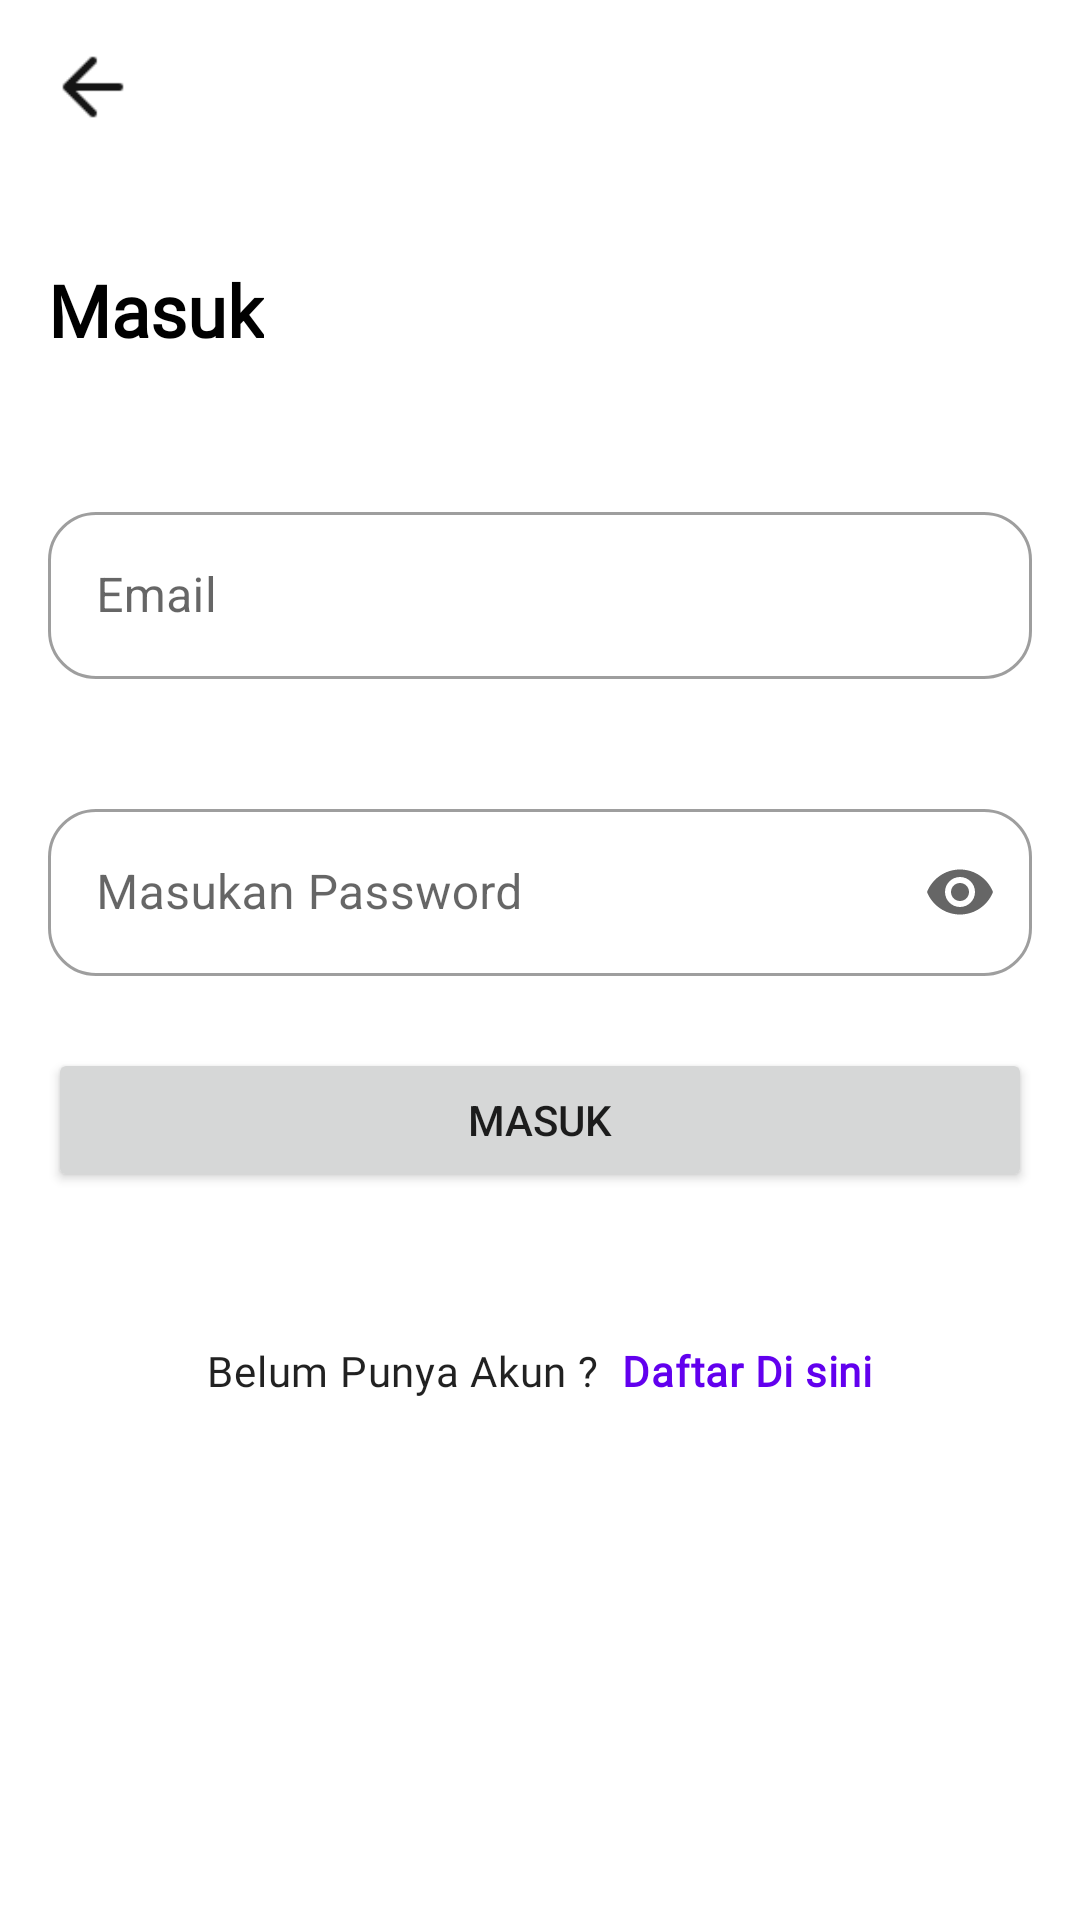

Point at icon controls on the screen. Image size 1080px×1920px, points as point (x, y).
back: point (93, 87)
